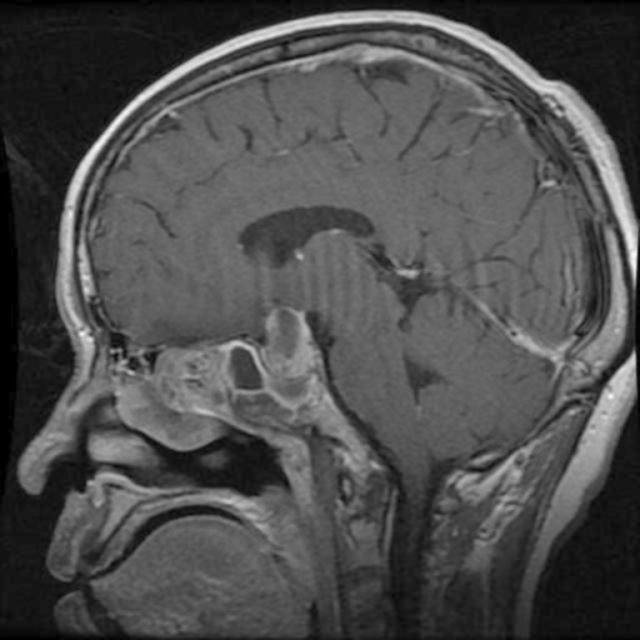no tumor: (262, 294, 324, 392)
